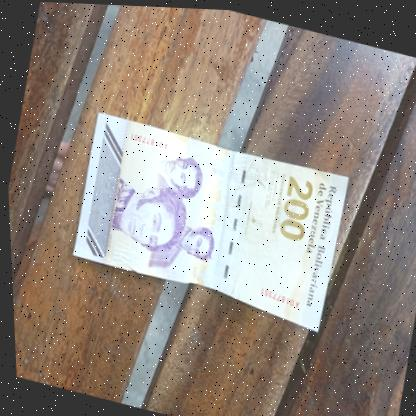two_hundred-front-vef: (61, 111, 352, 331)
